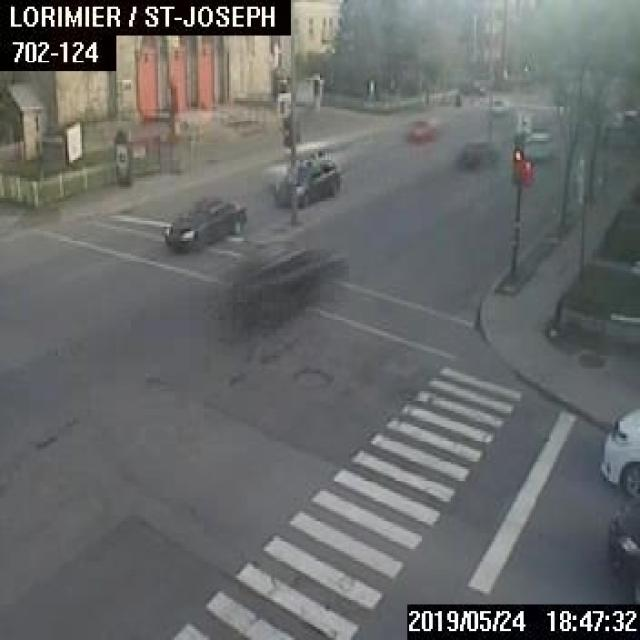vehicle: (233, 238, 345, 324), (164, 195, 245, 251), (598, 407, 638, 497), (264, 140, 329, 191), (274, 156, 338, 207), (608, 498, 638, 583), (454, 140, 498, 170), (524, 130, 553, 158), (402, 117, 434, 142)
